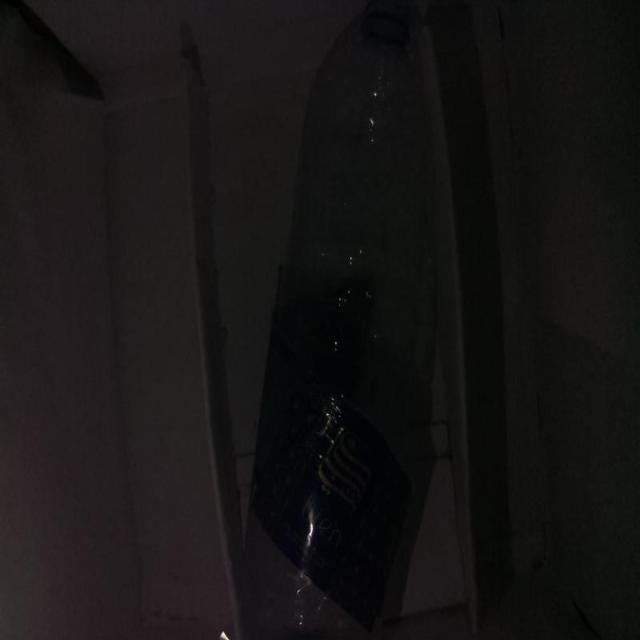Pet_Bottle: (218, 0, 432, 640)
